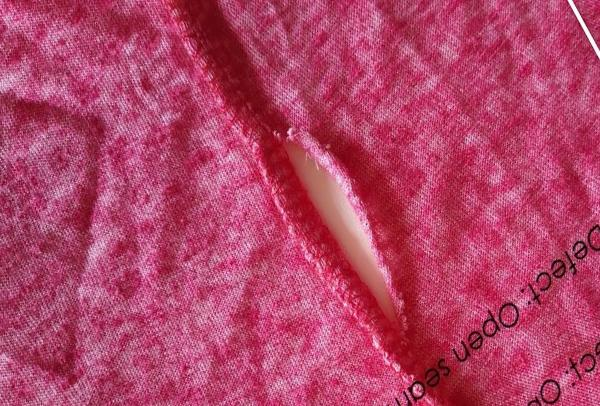hole: (280, 124, 416, 337)
